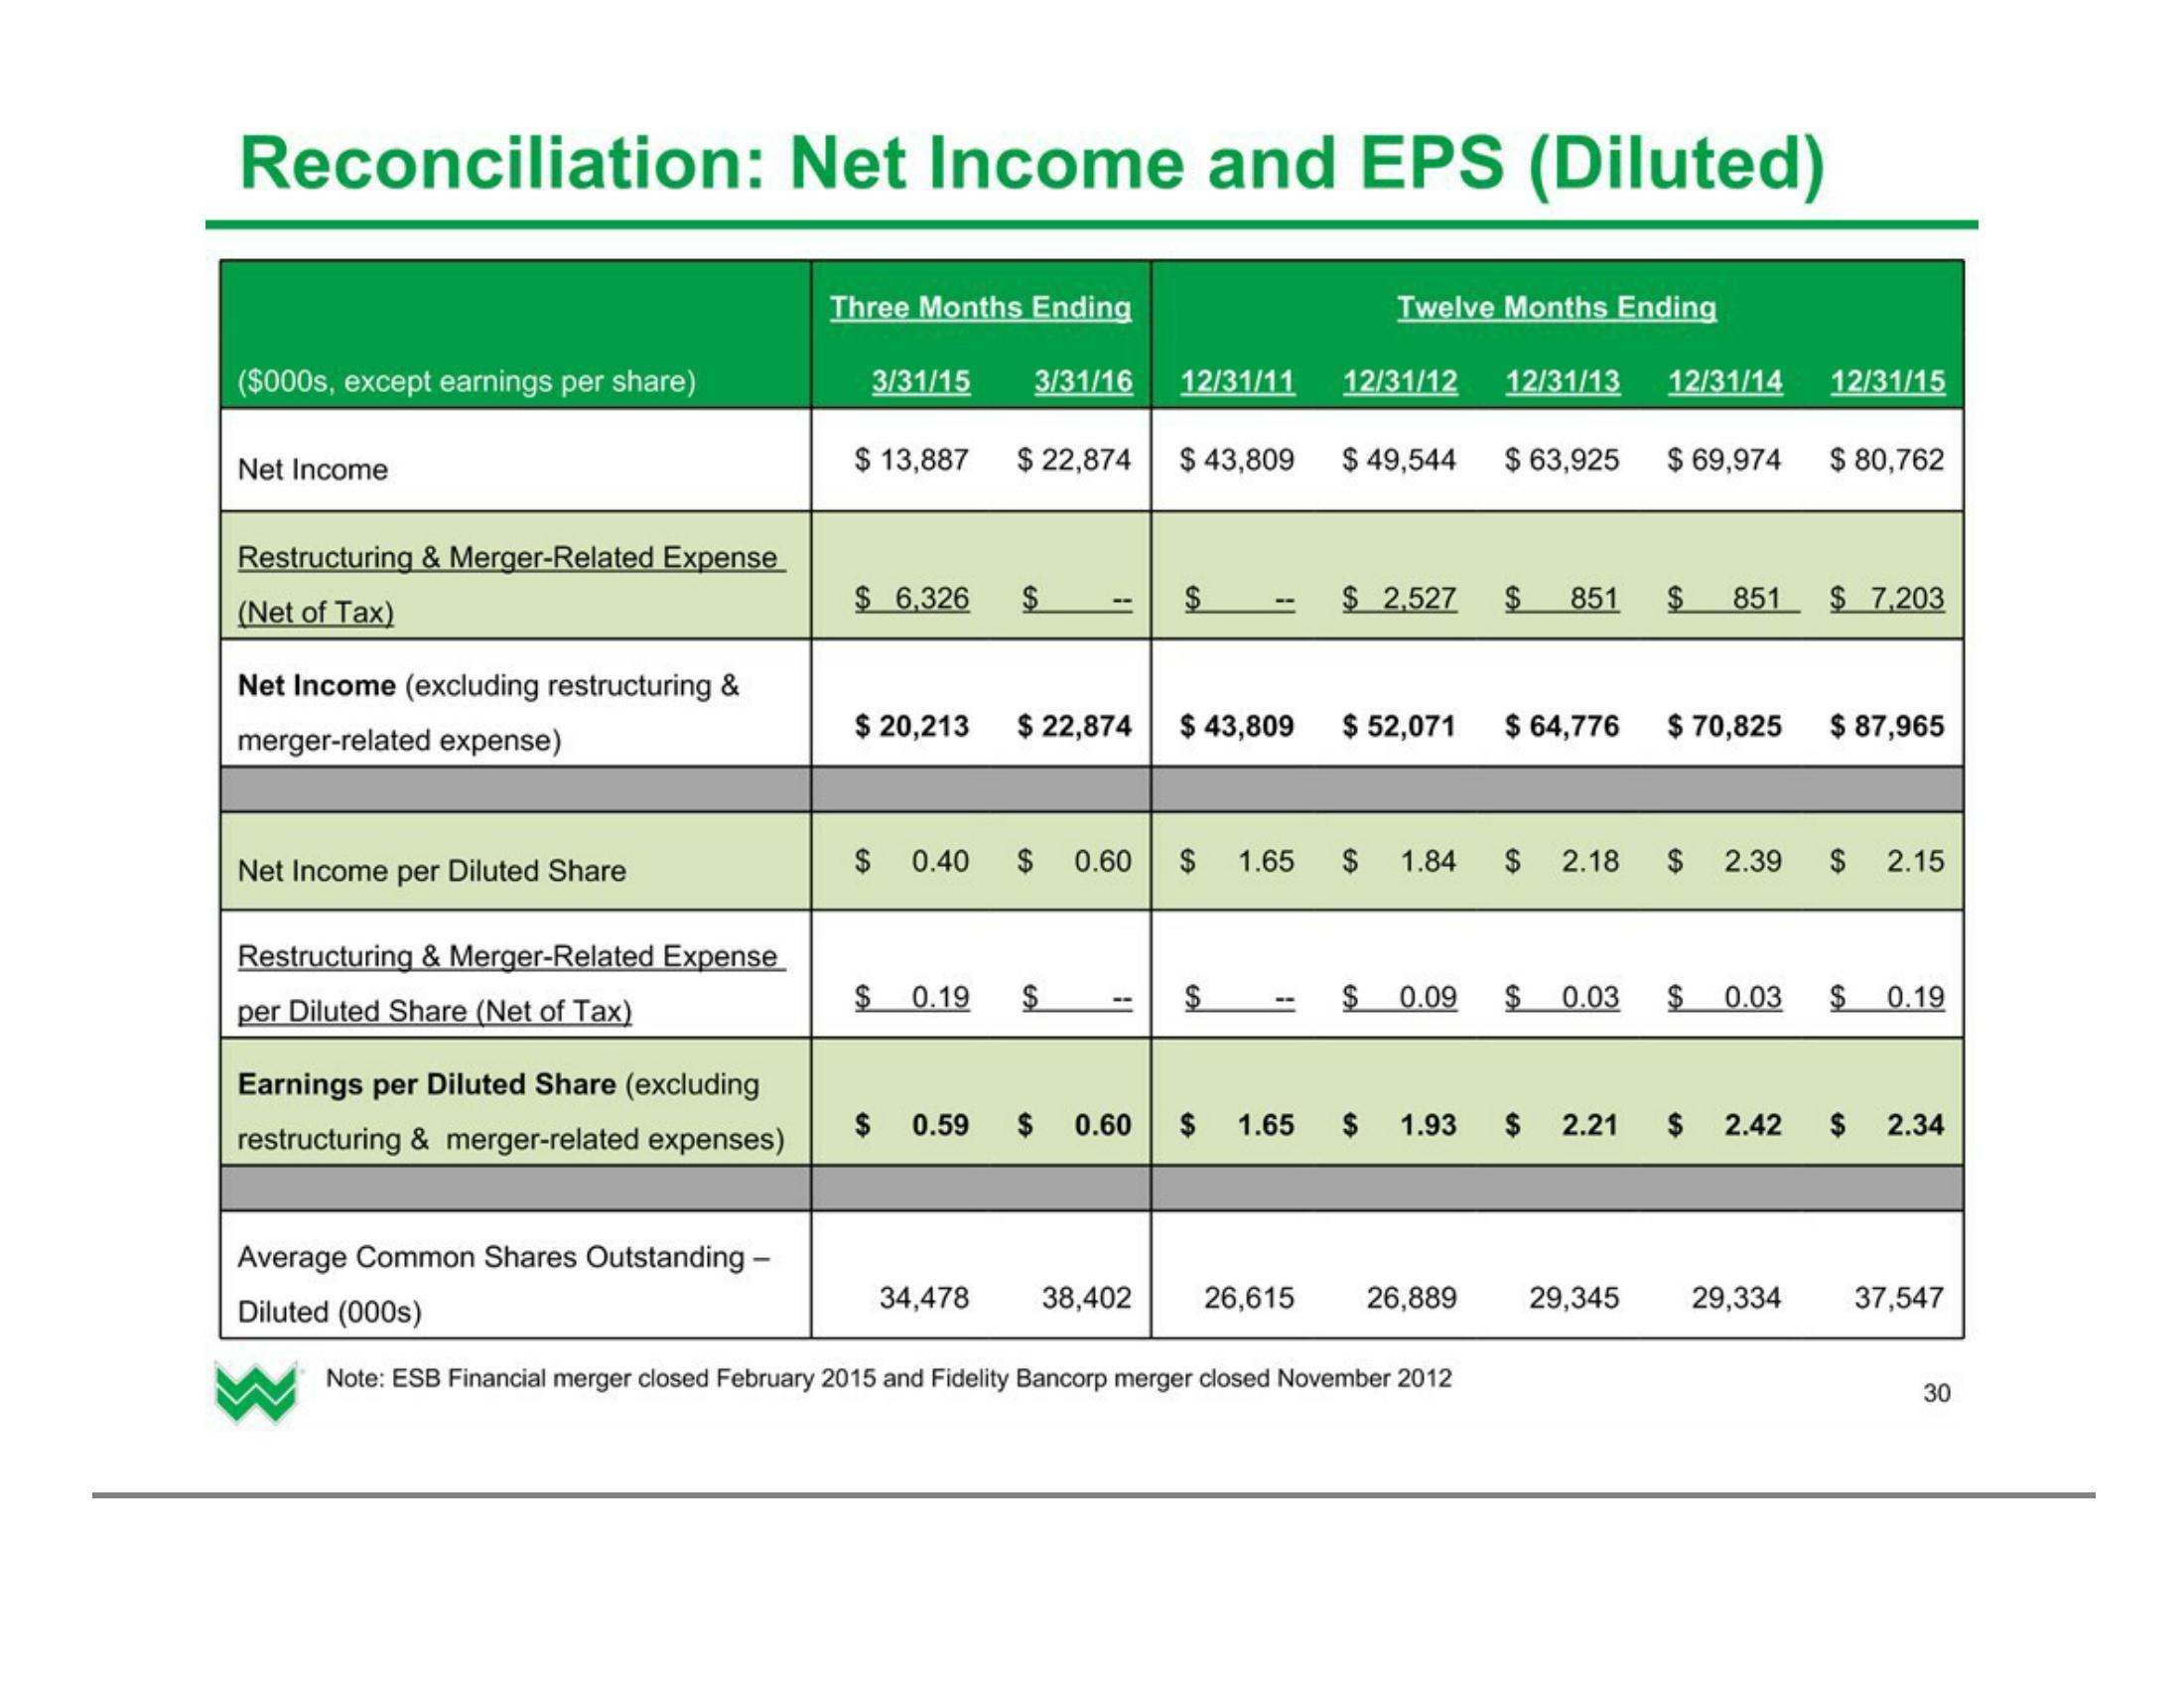table: (211, 250, 1977, 1348)
